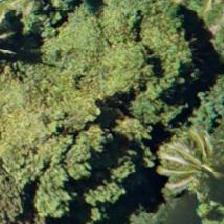coconut_tree: (143, 126, 223, 216)
